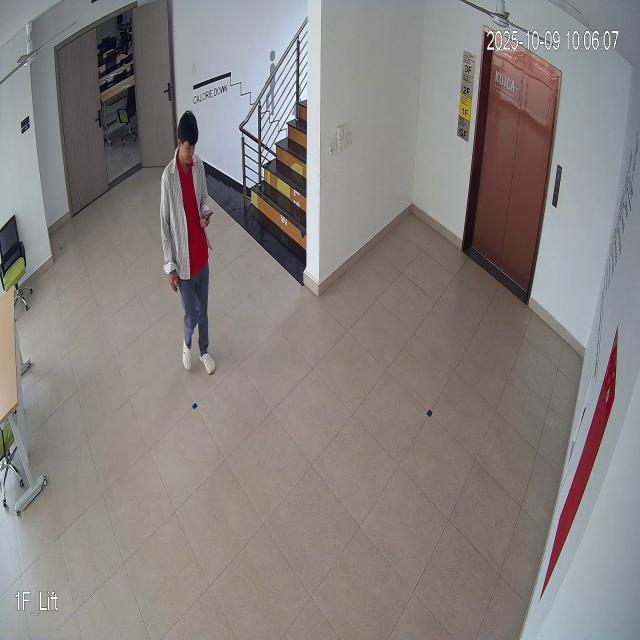face: (172, 109, 202, 174)
